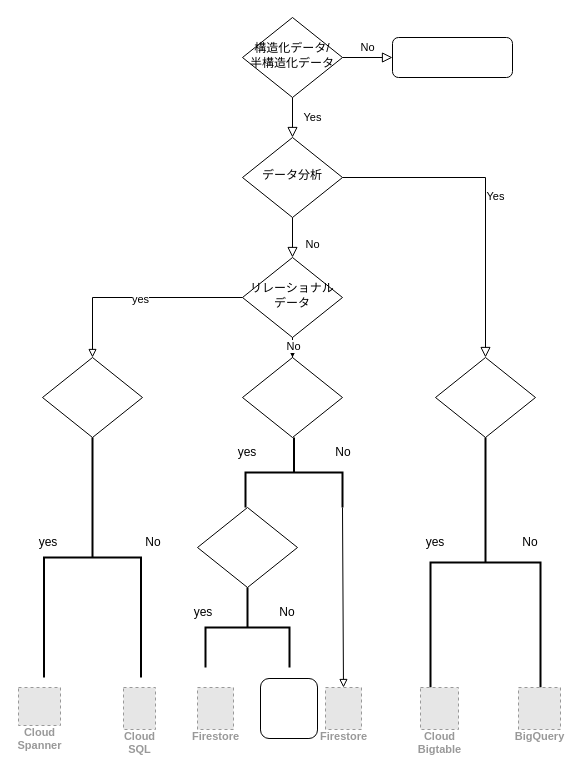
The diagram is 581 pixels wide and 774 high, and some of its shapes have lost their labels. Grey dashed boxes stand in for pictures. The centre of each missing label's shape, as x and y in pixels:
"Firebase Realtime Database" belongs at point 289,708.
"スケール" belongs at point 247,547.
"モバイルSDK を使用" belongs at point 292,397.
"低レイテンシ" belongs at point 485,397.
"対象がデータベースではない" belongs at point 452,57.
"水平スケール" belongs at point 92,397.
